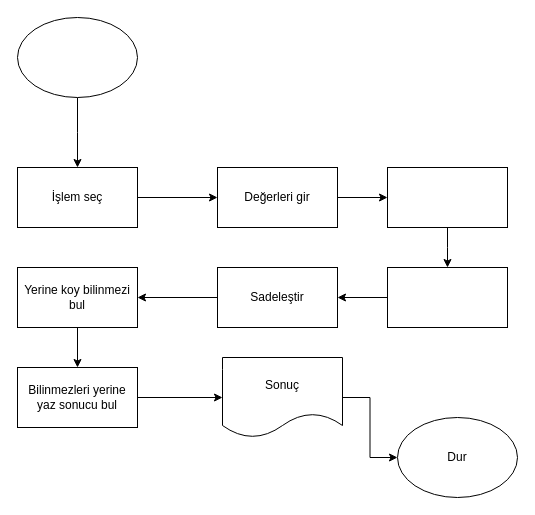
This 535x515 diagram has some shape labels left out. The shapes that lost their labels are listed below. From the top down, each one's box as (x1, y1, x2, y2) in pixels, then its label:
(16, 16, 138, 98): Başla
(386, 166, 508, 228): Bilinmezleri gir
(386, 266, 508, 328): Taraf tarafa topla
